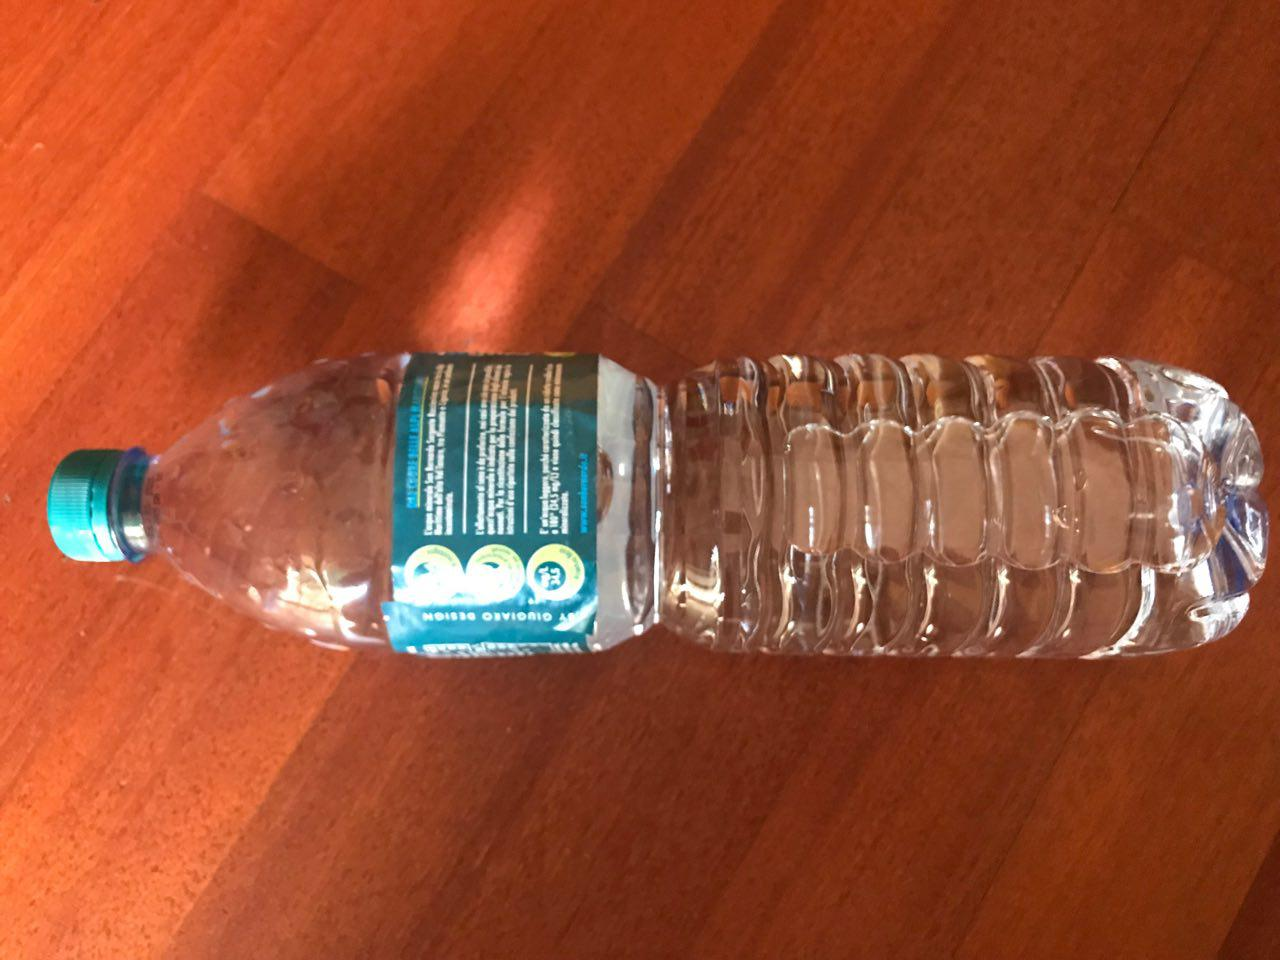san_bernardo: (45, 350, 1272, 661)
